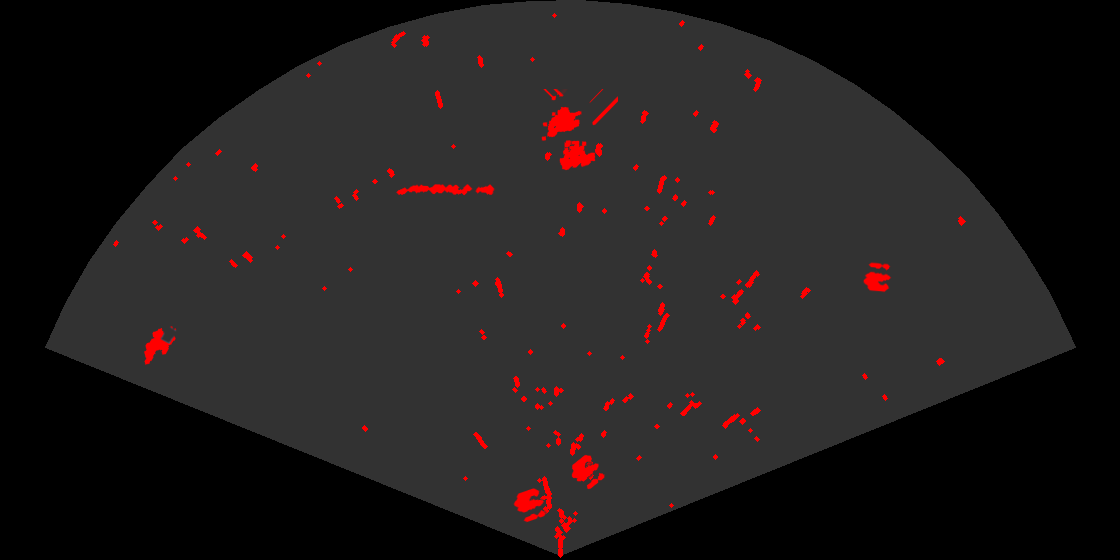AUV: (142, 324, 178, 366)
ball: (570, 453, 606, 491), (512, 487, 548, 524), (862, 261, 893, 294)
cage: (540, 89, 618, 172)
chain: (395, 183, 496, 197)
